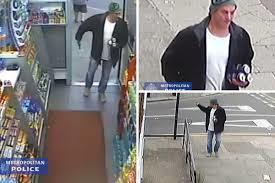weapon: (73, 37, 82, 51)
